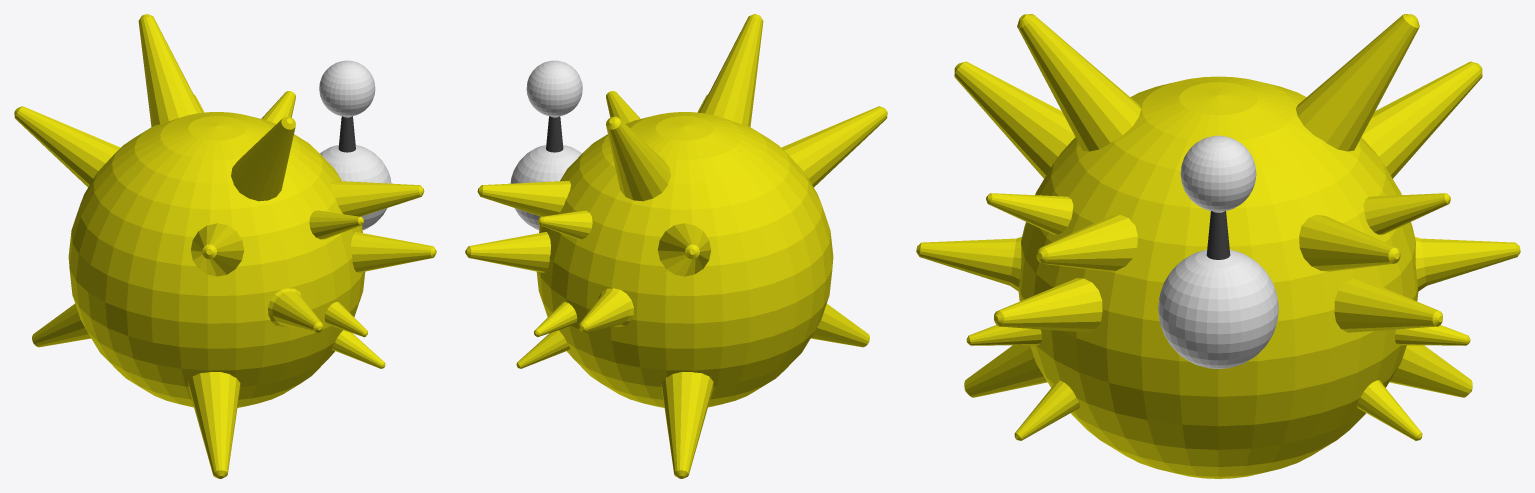
File: Anticor_4.fbx
3 renders of one model, left to right at view 1: azimuth 30°, elevation 25°; view 2: azimuth 150°, elevation 25°; view 3: azimuth 270°, elevation 25°, orthographic. The views are drawn at different scales.
Visible parts, largest first — view 1: Anticor3; view 2: Anticor3; view 3: Anticor3.
Part boxes in pixels (<box>): Anticor3: <box>14,14,436,478</box>; Anticor3: <box>465,14,887,478</box>; Anticor3: <box>916,14,1520,478</box>.
Bounding box in the file's own units: 231 × 244 × 300.
